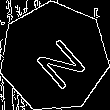N_NW: (23, 25, 86, 89)
